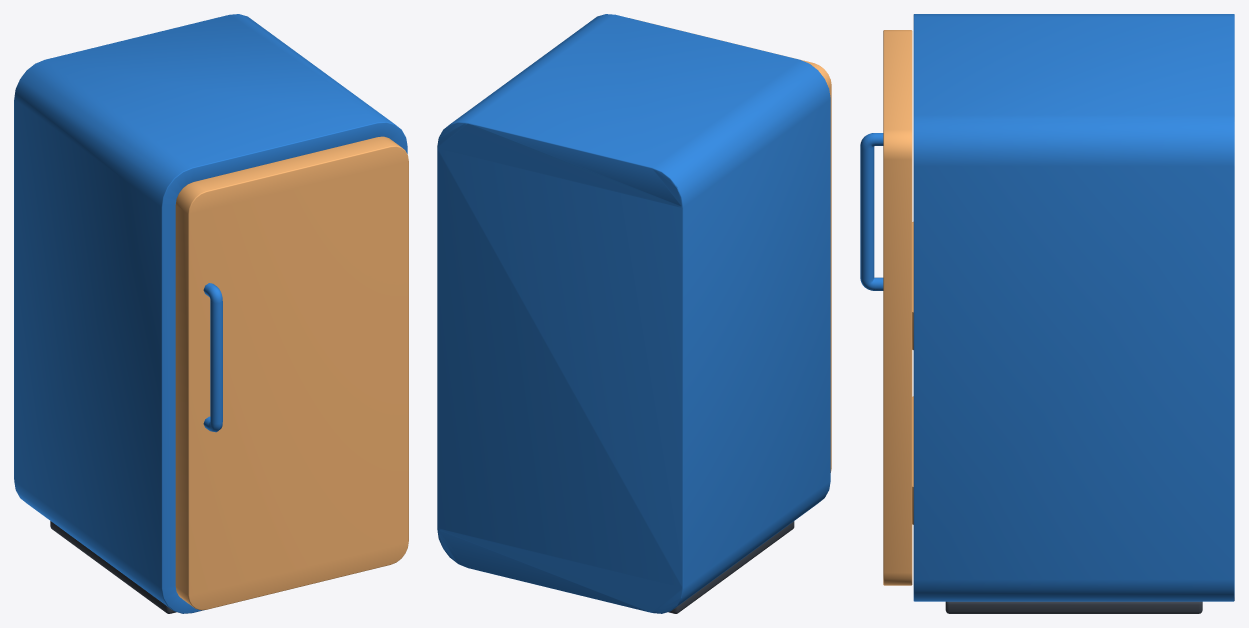
File: frigobar_bicolor_laranja.glb
3 views of the same model, side by side, from view 1: azimuth 30°, elevation 25°; view 2: azimuth 150°, elevation 25°; view 3: azimuth 270°, elevation 25° (orthographic). The views are drawn at different scales.
Parts seen in each view (by area): view 1: frigobar_bicolor_laranja, porta; view 2: frigobar_bicolor_laranja, porta; view 3: frigobar_bicolor_laranja, porta.
Part boxes in pixels (bbox=[...]): frigobar_bicolor_laranja: bbox=[14, 14, 407, 613]; porta: bbox=[175, 136, 408, 610]; frigobar_bicolor_laranja: bbox=[437, 14, 830, 613]; porta: bbox=[639, 20, 831, 472]; frigobar_bicolor_laranja: bbox=[913, 14, 1234, 613]; porta: bbox=[860, 30, 913, 585].
Bounding box in the file's own units: 0.48 × 0.85 × 0.583.
1 material, 1 textured.
